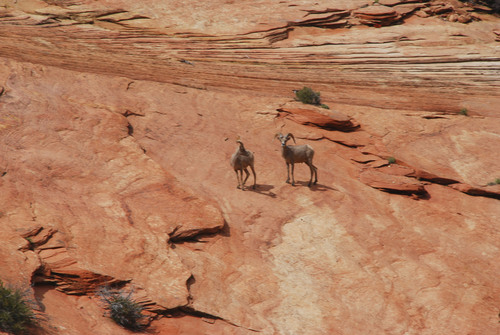sheep: (275, 130, 318, 186), (230, 140, 259, 191)
